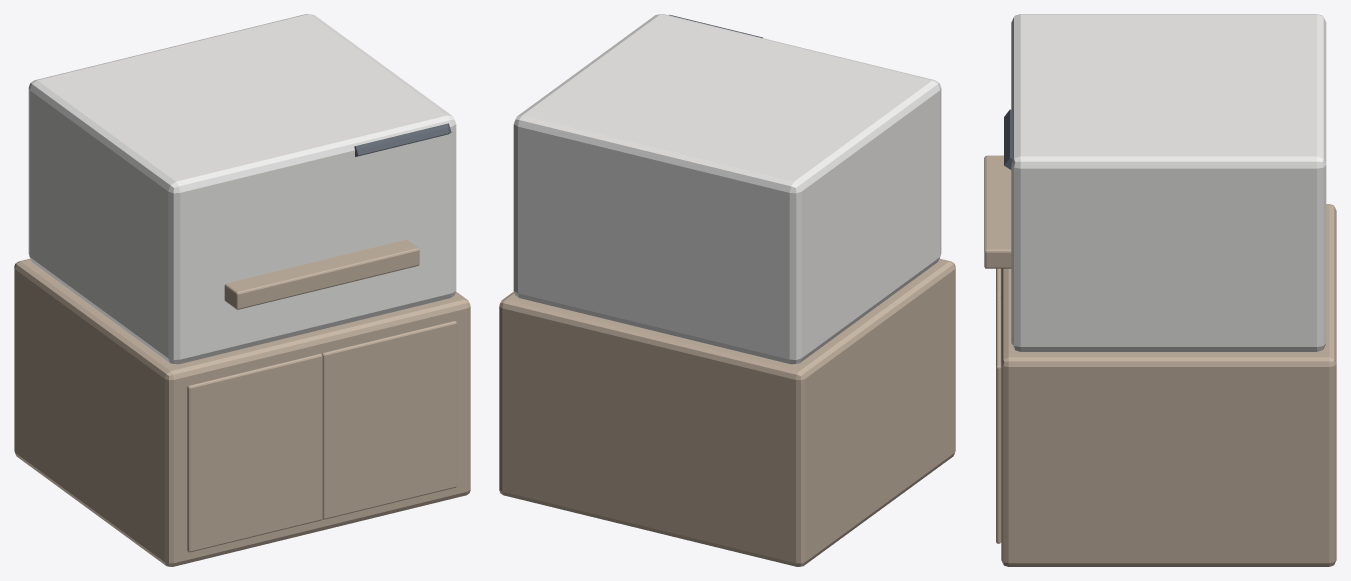
File: print___utility_office_asset_library_90.glb
3 views of the same model, side by side, from view 1: azimuth 30°, elevation 25°; view 2: azimuth 150°, elevation 25°; view 3: azimuth 270°, elevation 25° (orthographic). The views are drawn at different scales.
Parts seen in each view (by area): view 1: Cube; view 2: Cube; view 3: Cube.
Boxes of the visible parts, bbox=[...] form: Cube: bbox=[14, 14, 470, 566]; Cube: bbox=[499, 14, 955, 566]; Cube: bbox=[984, 14, 1336, 566].
Bounding box in the file's own units: 0.72 × 0.8526 × 0.672.
